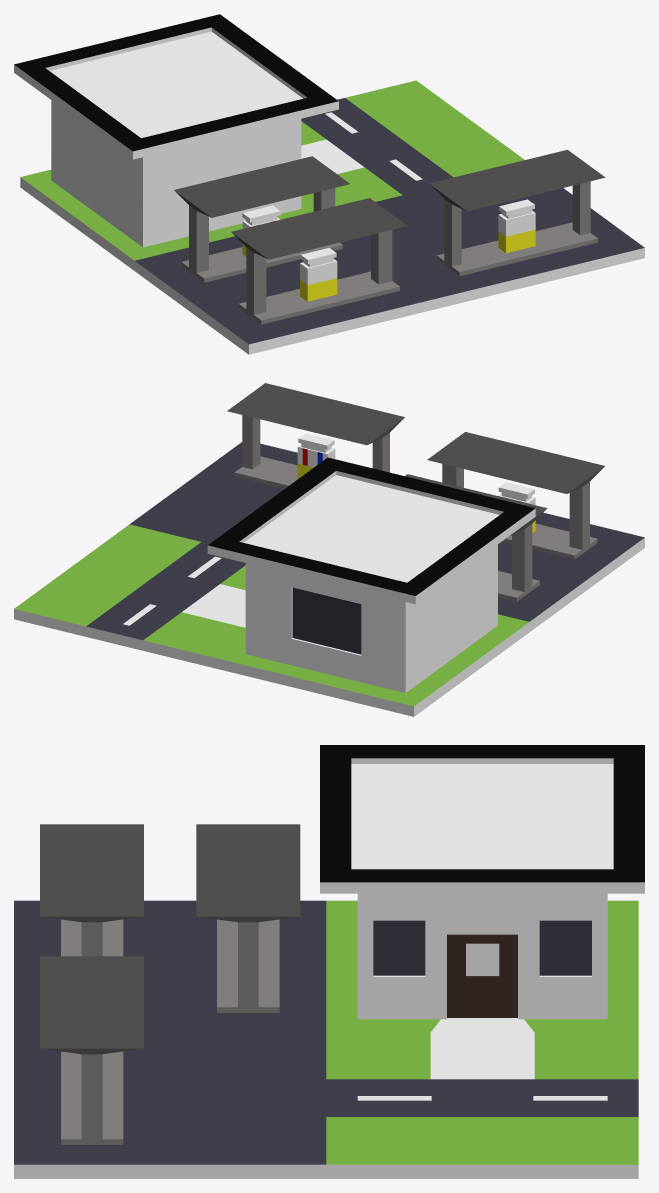
File: gas_station.fbx
The picture shows the model from 3 angles, top to bottom: view 1: azimuth 30°, elevation 25°; view 2: azimuth 150°, elevation 25°; view 3: azimuth 270°, elevation 25°; orthographic projection. The views are drawn at different scales.
Visible parts, largest first — view 1: gas_station; view 2: gas_station; view 3: gas_station.
Part boxes in pixels (bbox=[...]): gas_station: bbox=[14, 14, 644, 354]; gas_station: bbox=[14, 383, 644, 716]; gas_station: bbox=[14, 745, 644, 1178].
Bounding box in the file's own units: 1010 × 295 × 1010.
